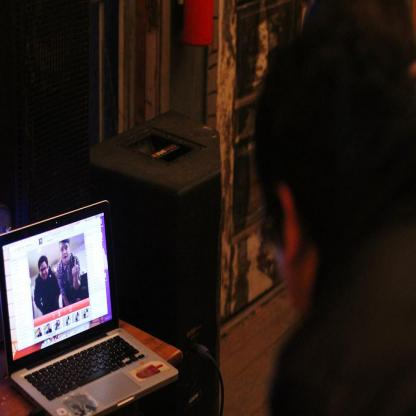board: (0, 198, 179, 416)
